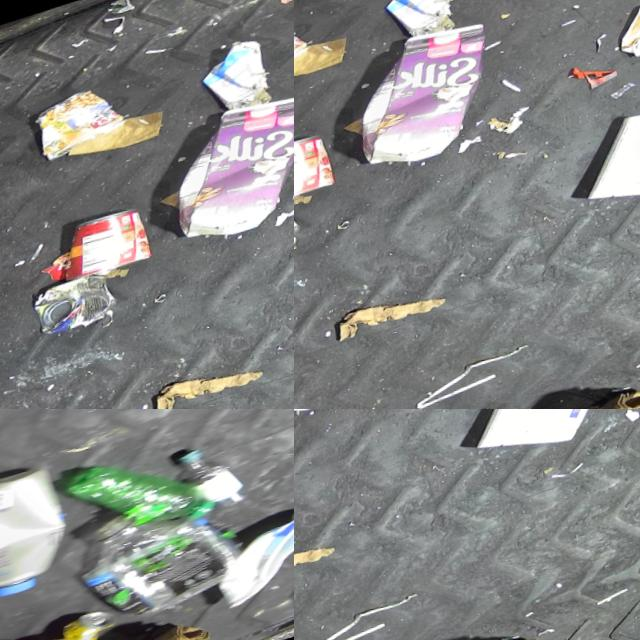can: (33, 79, 133, 165), (59, 203, 161, 287), (32, 267, 127, 343), (294, 130, 343, 213), (60, 610, 131, 640), (294, 6, 316, 91)
non_white_jug: (340, 19, 509, 183), (157, 92, 294, 256)
plastic_bottle: (71, 487, 258, 640), (177, 441, 261, 534)
